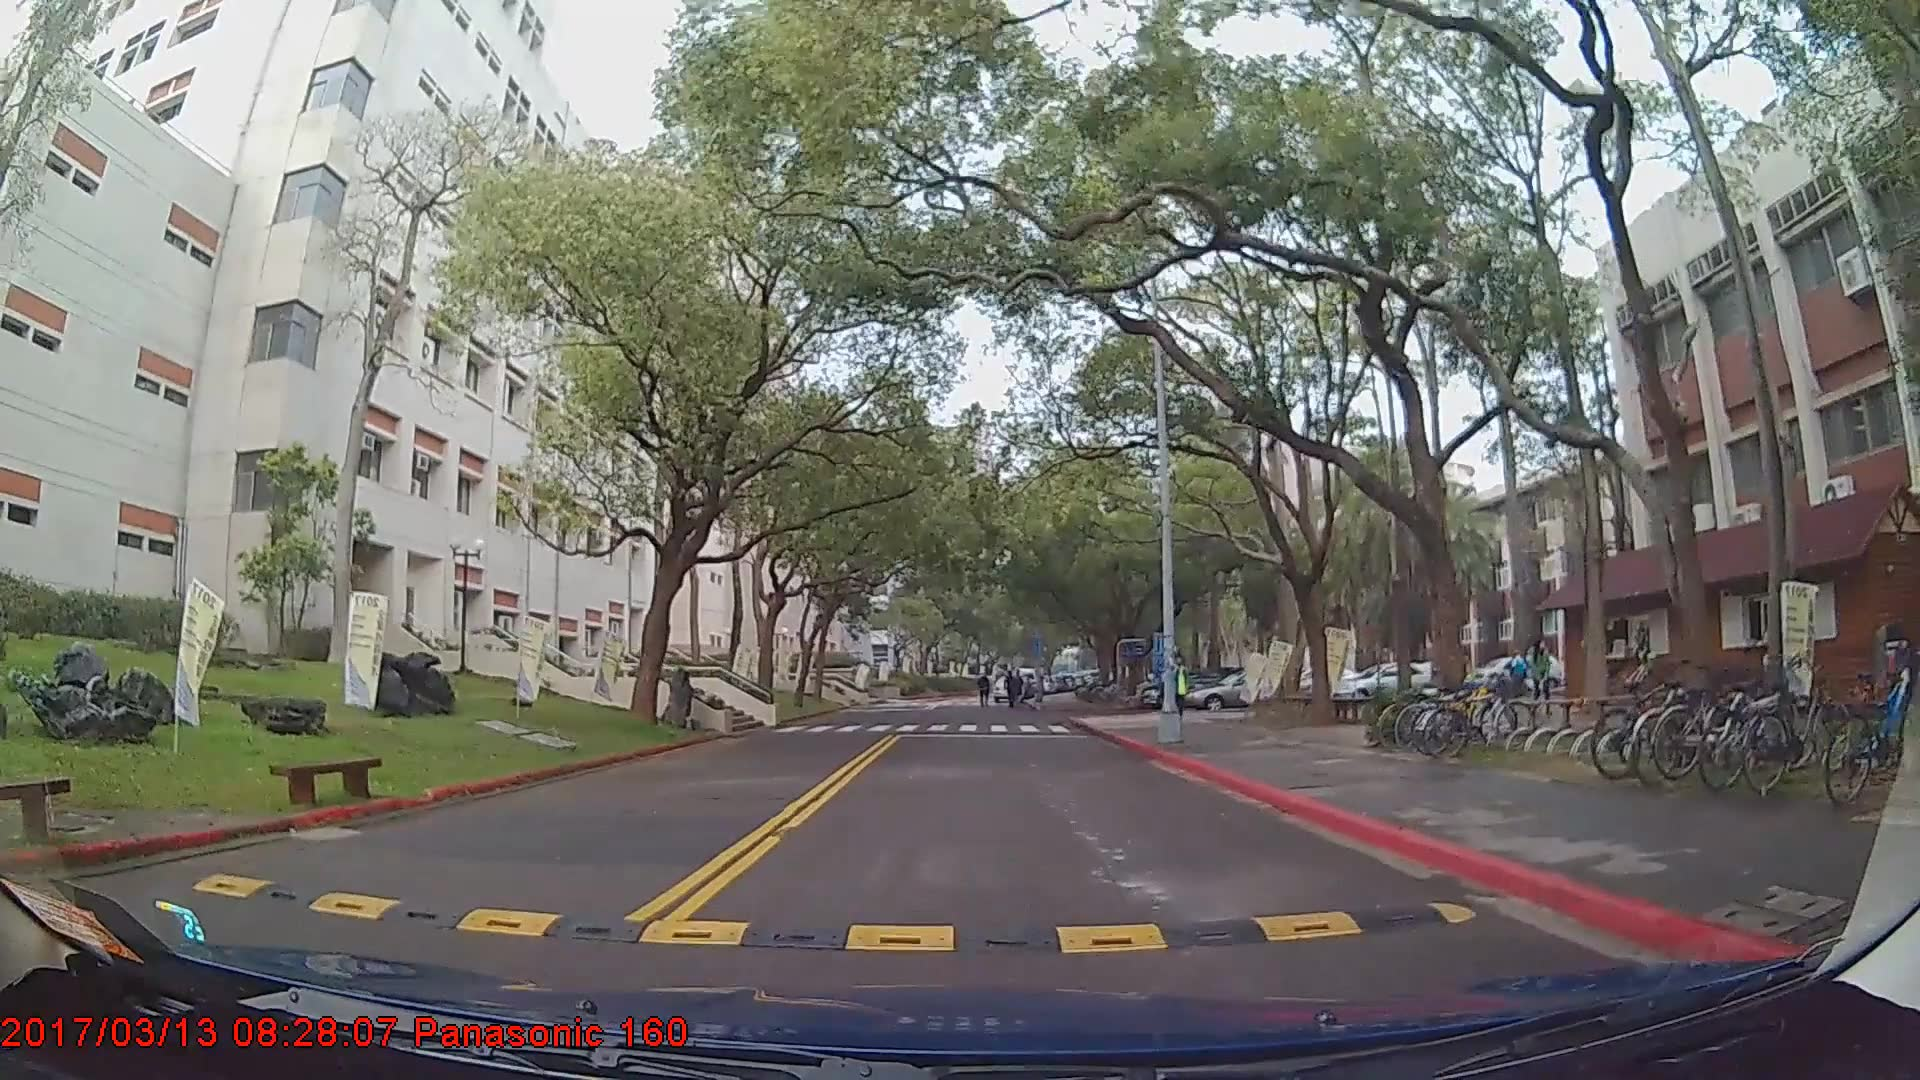vehicle: (1185, 671, 1313, 711), (1331, 659, 1439, 705)
